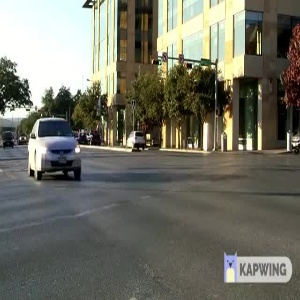car: (18, 118, 102, 181), (123, 128, 149, 151)
